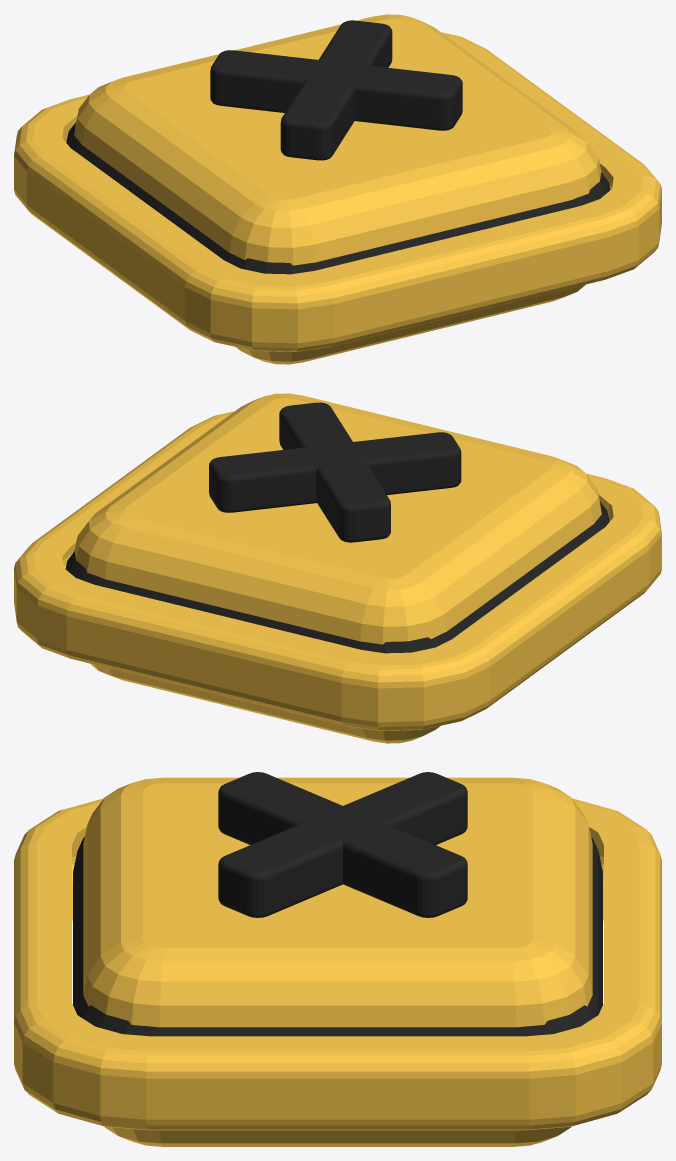
File: Button_Close.fbx
3 views of the same model, one above another, from view 1: azimuth 30°, elevation 25°; view 2: azimuth 150°, elevation 25°; view 3: azimuth 270°, elevation 25° (orthographic). The views are drawn at different scales.
Parts seen in each view (by area): view 1: Cube, Cube_12, Cube_4, Cube_1, Cube_10; view 2: Cube, Cube_12, Cube_1, Cube_4, Cube_10; view 3: Cube, Cube_12, Cube_4, Cube_1, Cube_10.
Part boxes in pixels (bbox=[...]): Cube: bbox=[74, 14, 601, 364]; Cube_12: bbox=[14, 32, 661, 351]; Cube_4: bbox=[210, 50, 462, 130]; Cube_1: bbox=[280, 20, 392, 160]; Cube_10: bbox=[66, 122, 610, 274]; Cube: bbox=[74, 393, 601, 743]; Cube_12: bbox=[14, 411, 661, 730]; Cube_1: bbox=[209, 432, 461, 512]; Cube_4: bbox=[279, 402, 390, 542]; Cube_10: bbox=[65, 501, 609, 653]; Cube: bbox=[83, 777, 592, 1146]; Cube_12: bbox=[14, 798, 661, 1130]; Cube_4: bbox=[218, 772, 467, 917]; Cube_1: bbox=[218, 772, 467, 917]; Cube_10: bbox=[73, 837, 602, 1036].
Size of the model in its own units: 254 by 103 by 254.
